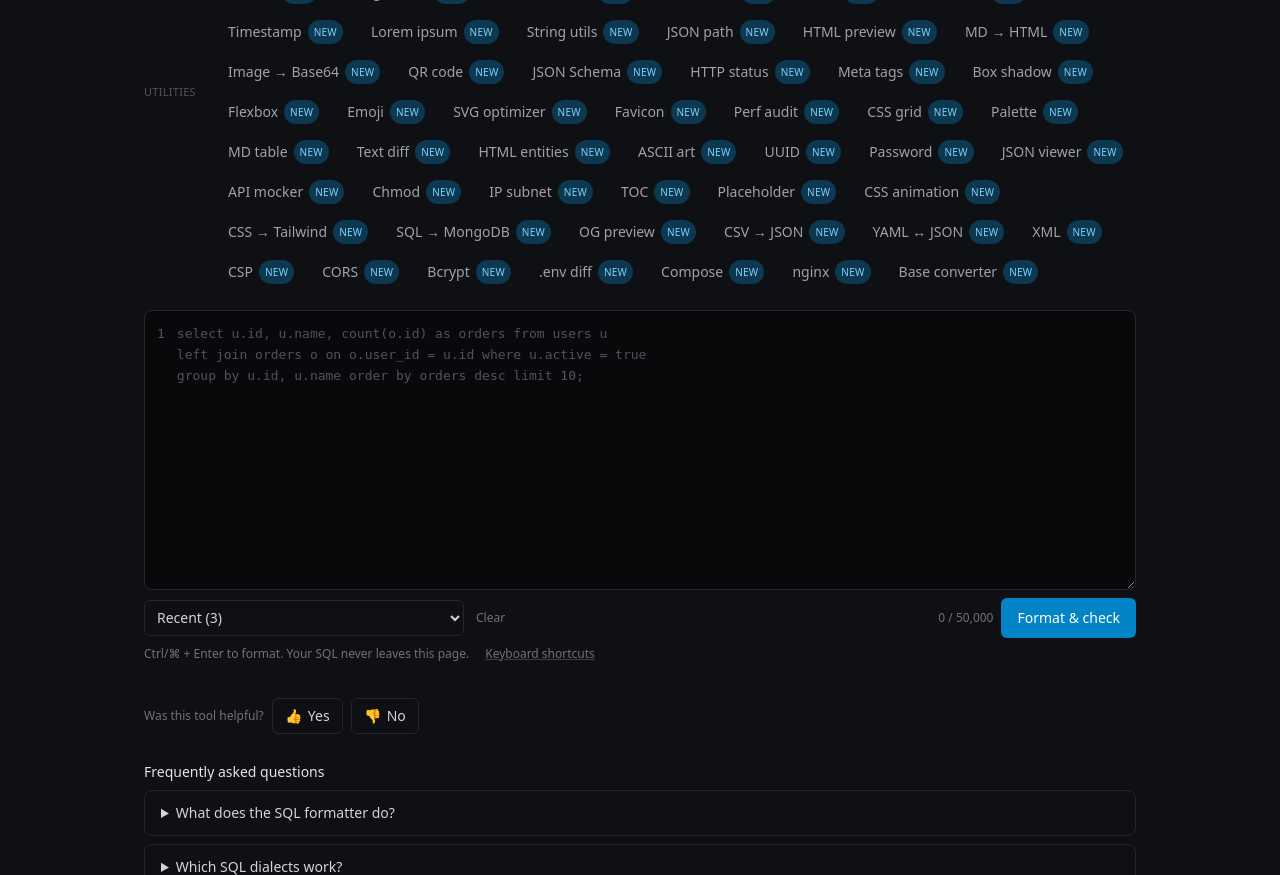
SqlPage › moves the result back into the editor
(page scrolled)
Replace the text in the text box with test id "sql-in" with "select 1" at (654, 450), box [173,311,1135,588]
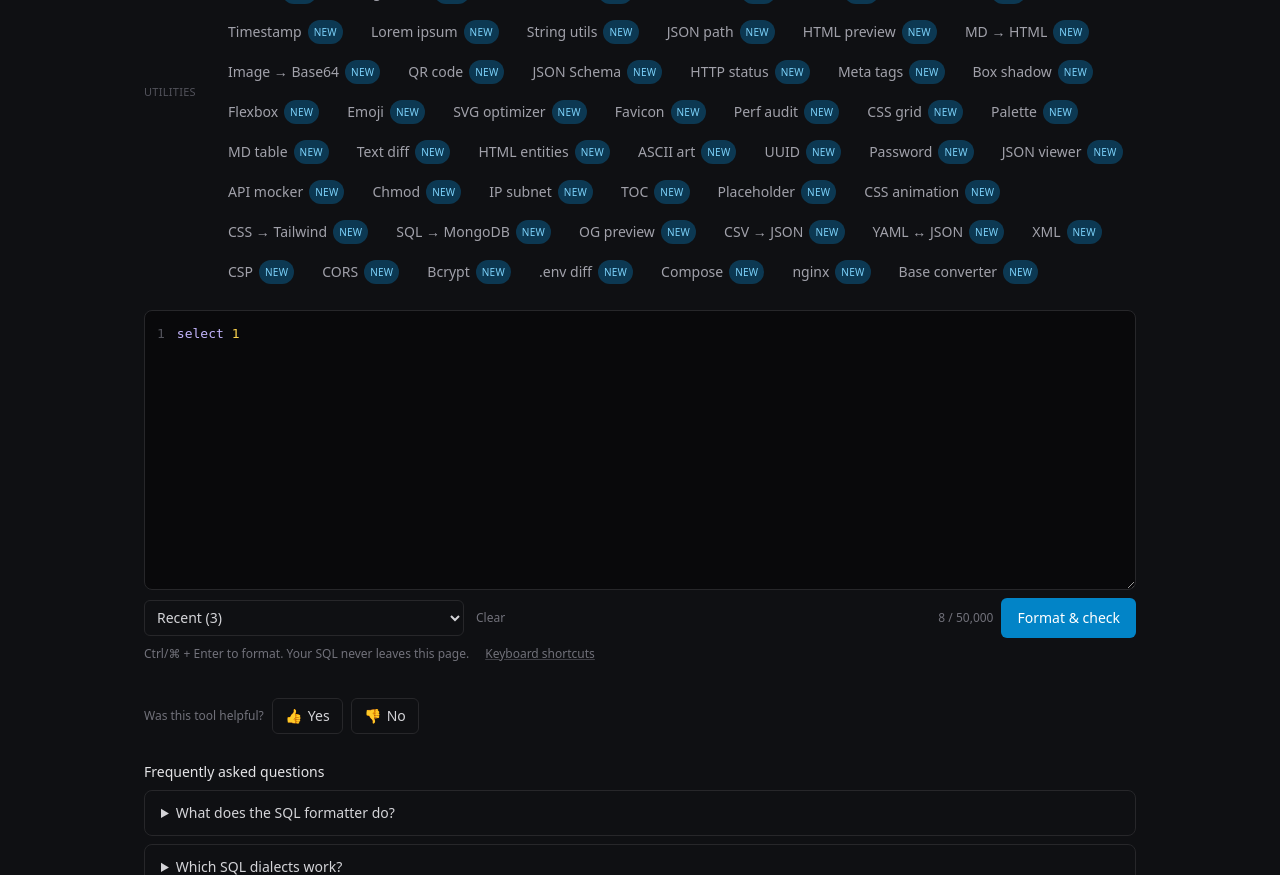
Click the button with test id "sql-run" at (1069, 618), box [1002,598,1136,638]
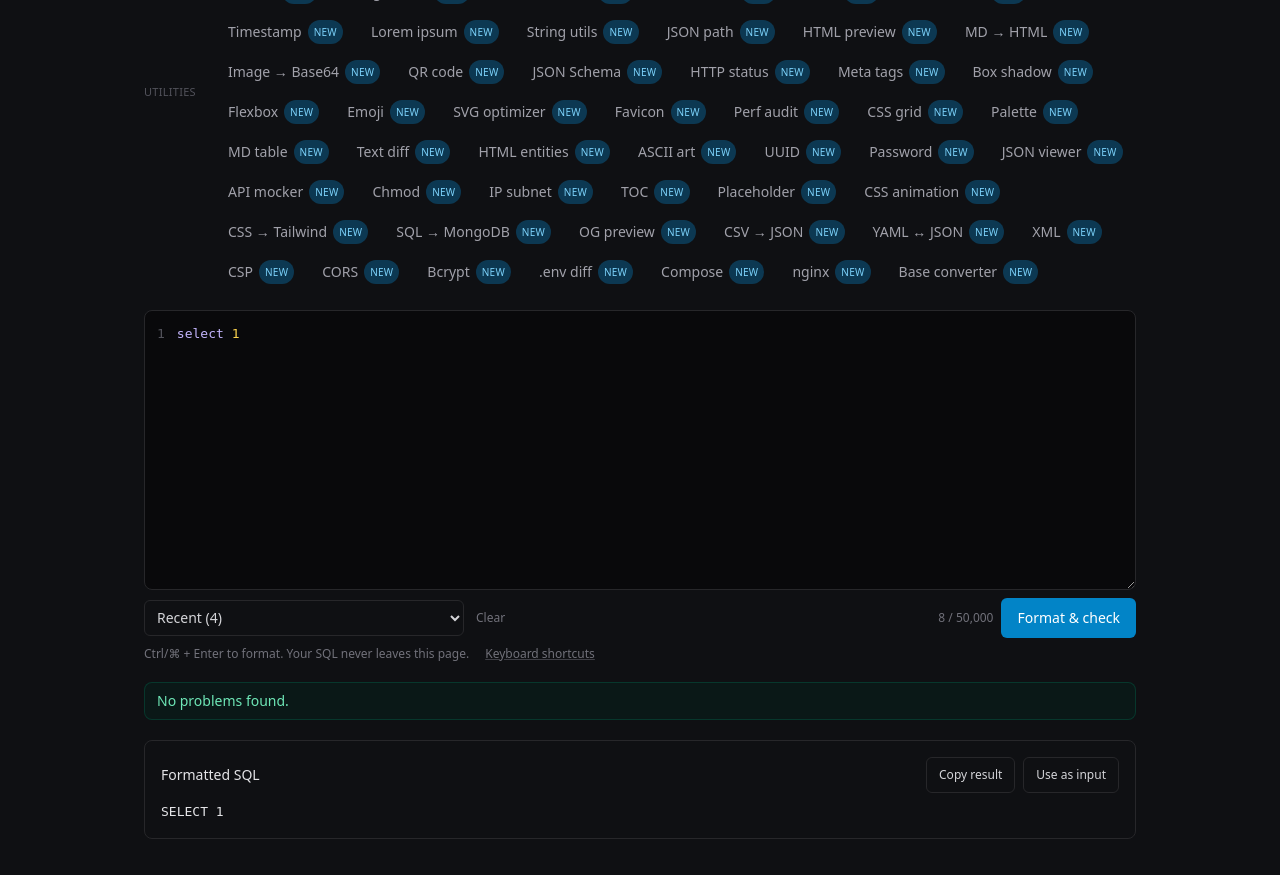
Click the button with test id "sql-use" at (1071, 774), box [1023,756,1119,792]
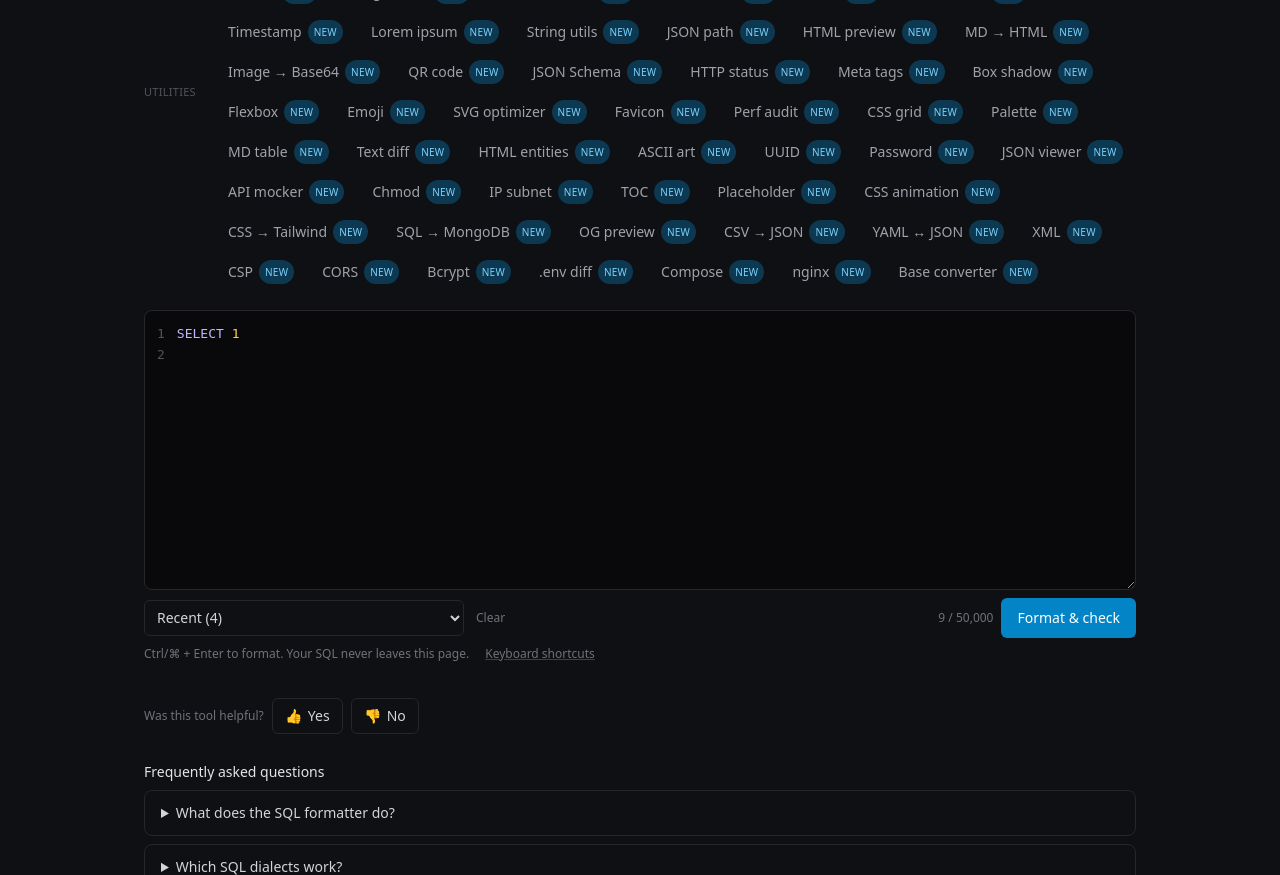
Now the text with test id "sql-out" is gone
